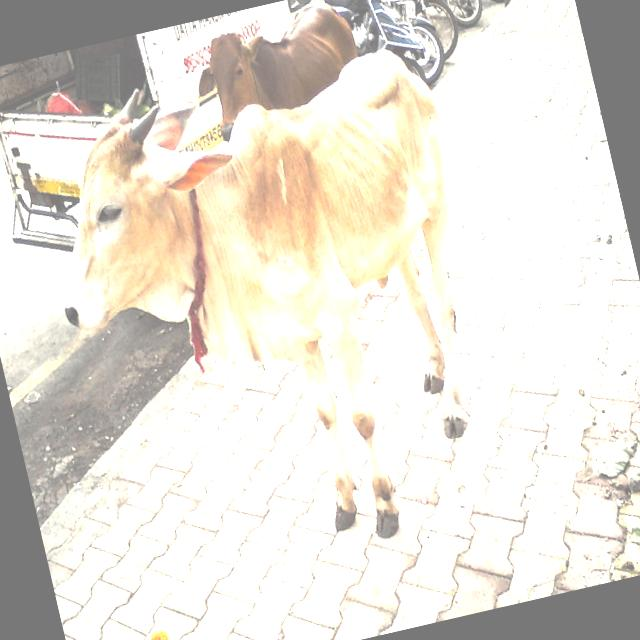Vehicle: (0, 0, 345, 277), (312, 0, 452, 108), (0, 136, 44, 428), (314, 0, 464, 84), (401, 0, 486, 37)
